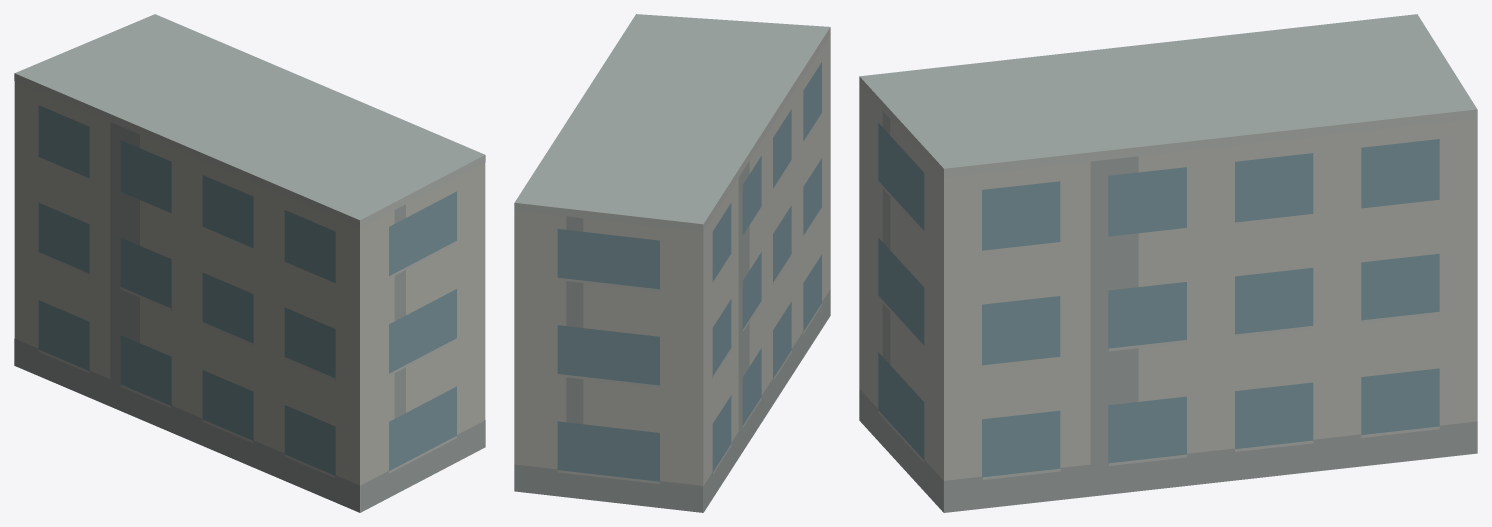
The model's file is residential-3c4492d8-c7c3-4046-82fa-2b566643026f.glb.
The picture shows the model from 3 angles, left to right: view 1: azimuth 30°, elevation 25°; view 2: azimuth 150°, elevation 25°; view 3: azimuth 270°, elevation 25°; orthographic projection. The views are drawn at different scales.
Parts seen in each view (by area): view 1: residential-3c4492d8-c7c3-4046-82fa-2b566643026f.tmp; view 2: residential-3c4492d8-c7c3-4046-82fa-2b566643026f.tmp; view 3: residential-3c4492d8-c7c3-4046-82fa-2b566643026f.tmp.
Part boxes in pixels (<box>): residential-3c4492d8-c7c3-4046-82fa-2b566643026f.tmp: <box>14,14,485,512</box>; residential-3c4492d8-c7c3-4046-82fa-2b566643026f.tmp: <box>514,14,830,512</box>; residential-3c4492d8-c7c3-4046-82fa-2b566643026f.tmp: <box>859,14,1477,512</box>.
Size of the model in its own units: 8.83 by 9.15 by 14.91.
